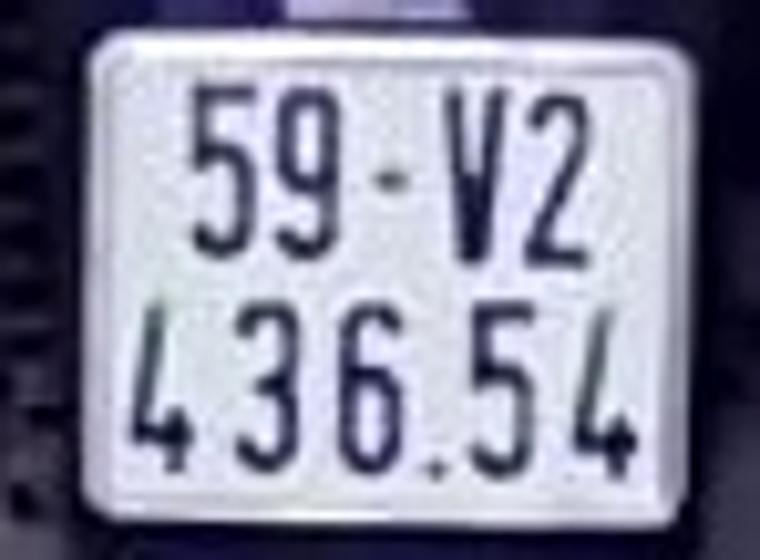-: (365, 167, 413, 189)
.: (422, 450, 451, 492)
2: (523, 88, 590, 273)
3: (230, 301, 301, 470)
4: (566, 305, 641, 481), (127, 301, 191, 479)
5: (461, 300, 539, 480), (187, 84, 254, 259)
6: (334, 302, 401, 476)
9: (269, 87, 341, 260)
V: (438, 83, 504, 265)
